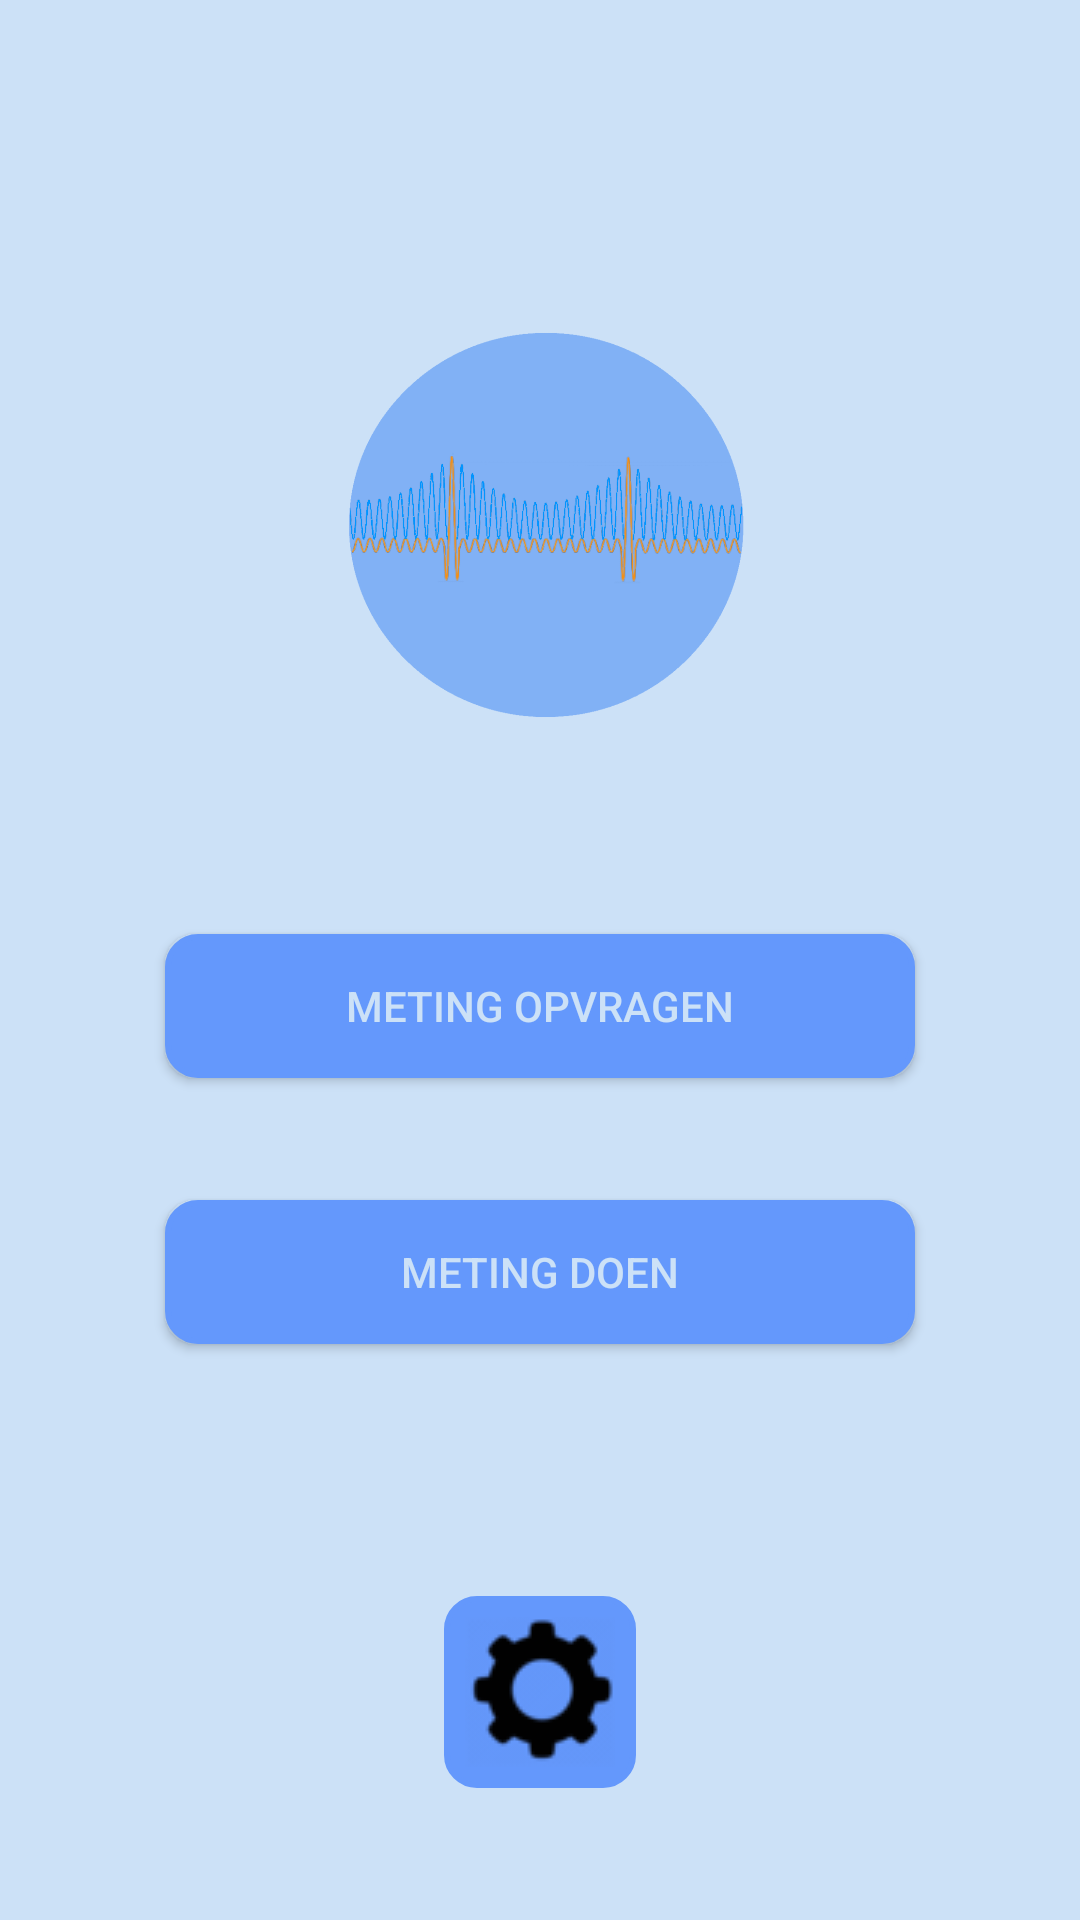

Where icons sit on this 1080px x 1920px app screen, as (x1, y1, x2, y2):
settings: (444, 1596, 636, 1788)
